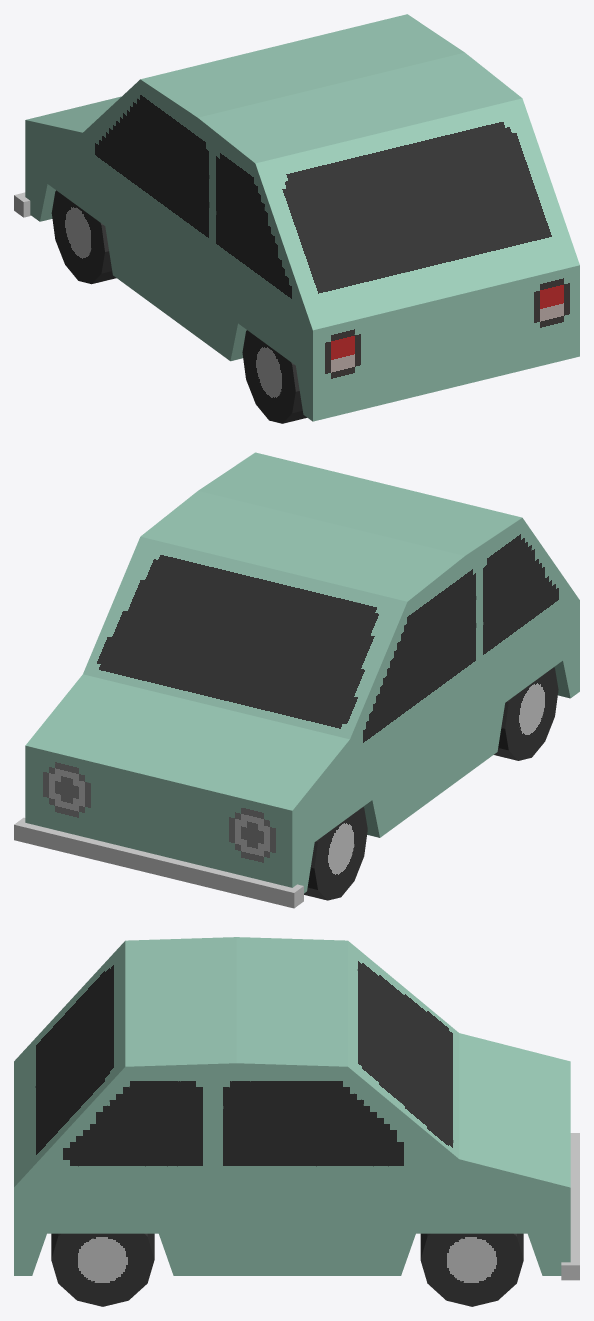
Rendered from toycar.glb.
3 views of the same model, one above another, from view 1: azimuth 30°, elevation 25°; view 2: azimuth 150°, elevation 25°; view 3: azimuth 270°, elevation 25° (orthographic). The views are drawn at different scales.
Visible parts, largest first — view 1: Cube; view 2: Cube; view 3: Cube.
Part boxes in pixels (left/top/right/bottom): Cube: left=14, top=14, right=579, bottom=423; Cube: left=14, top=452, right=579, bottom=908; Cube: left=14, top=937, right=579, bottom=1306.
Bounding box in the file's own units: 4.04 × 3.48 × 7.3.
Materials: 1 (1 with a texture image).
